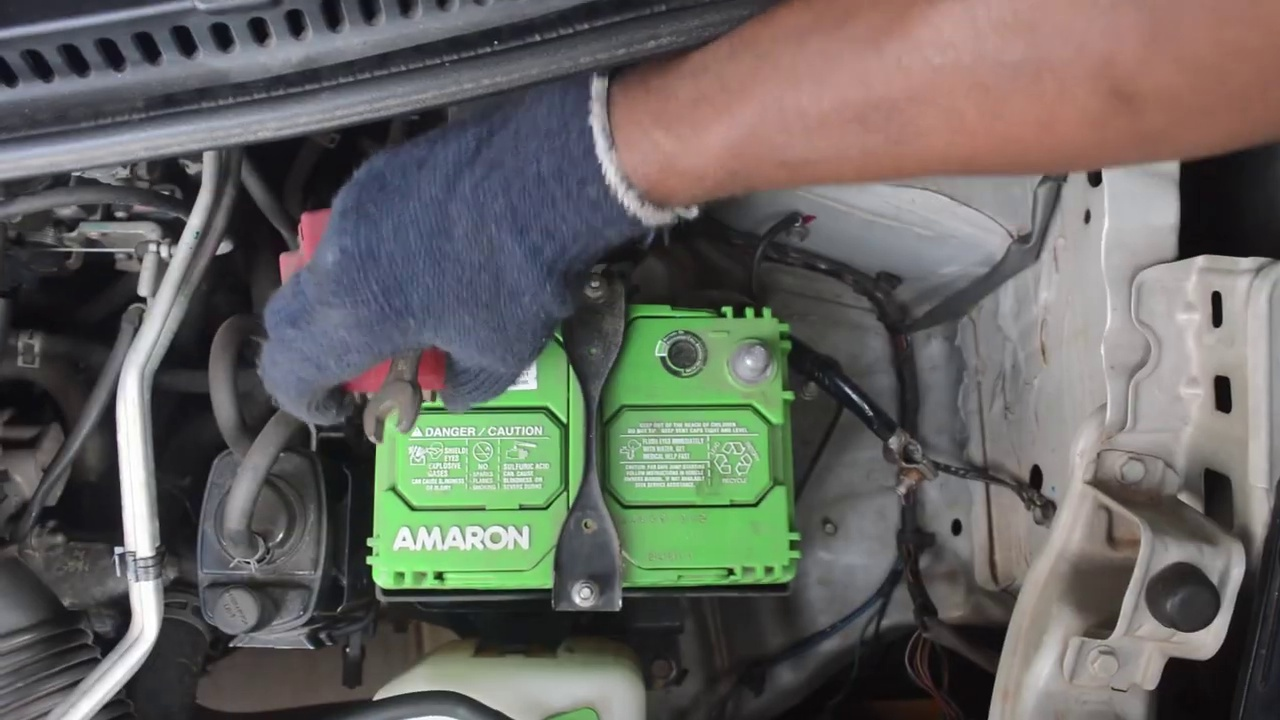battery: (349, 267, 804, 597)
neg_disconnected: (709, 316, 802, 403)
pos_touched: (284, 211, 482, 442)
